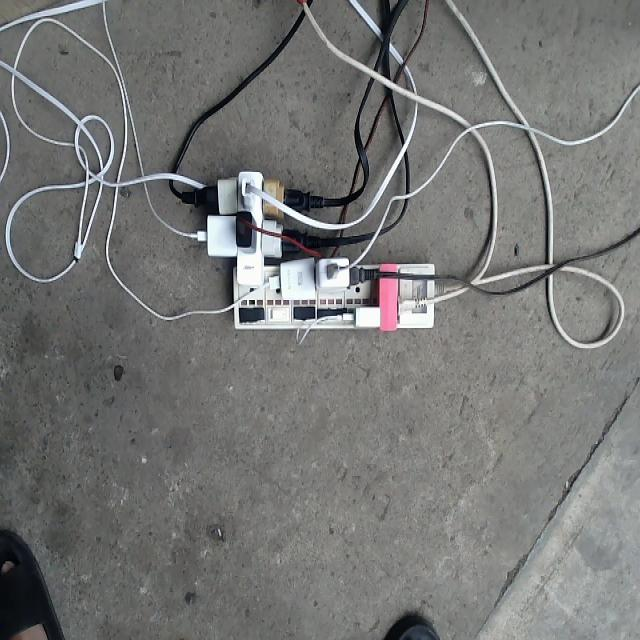-: (178, 169, 433, 327)
